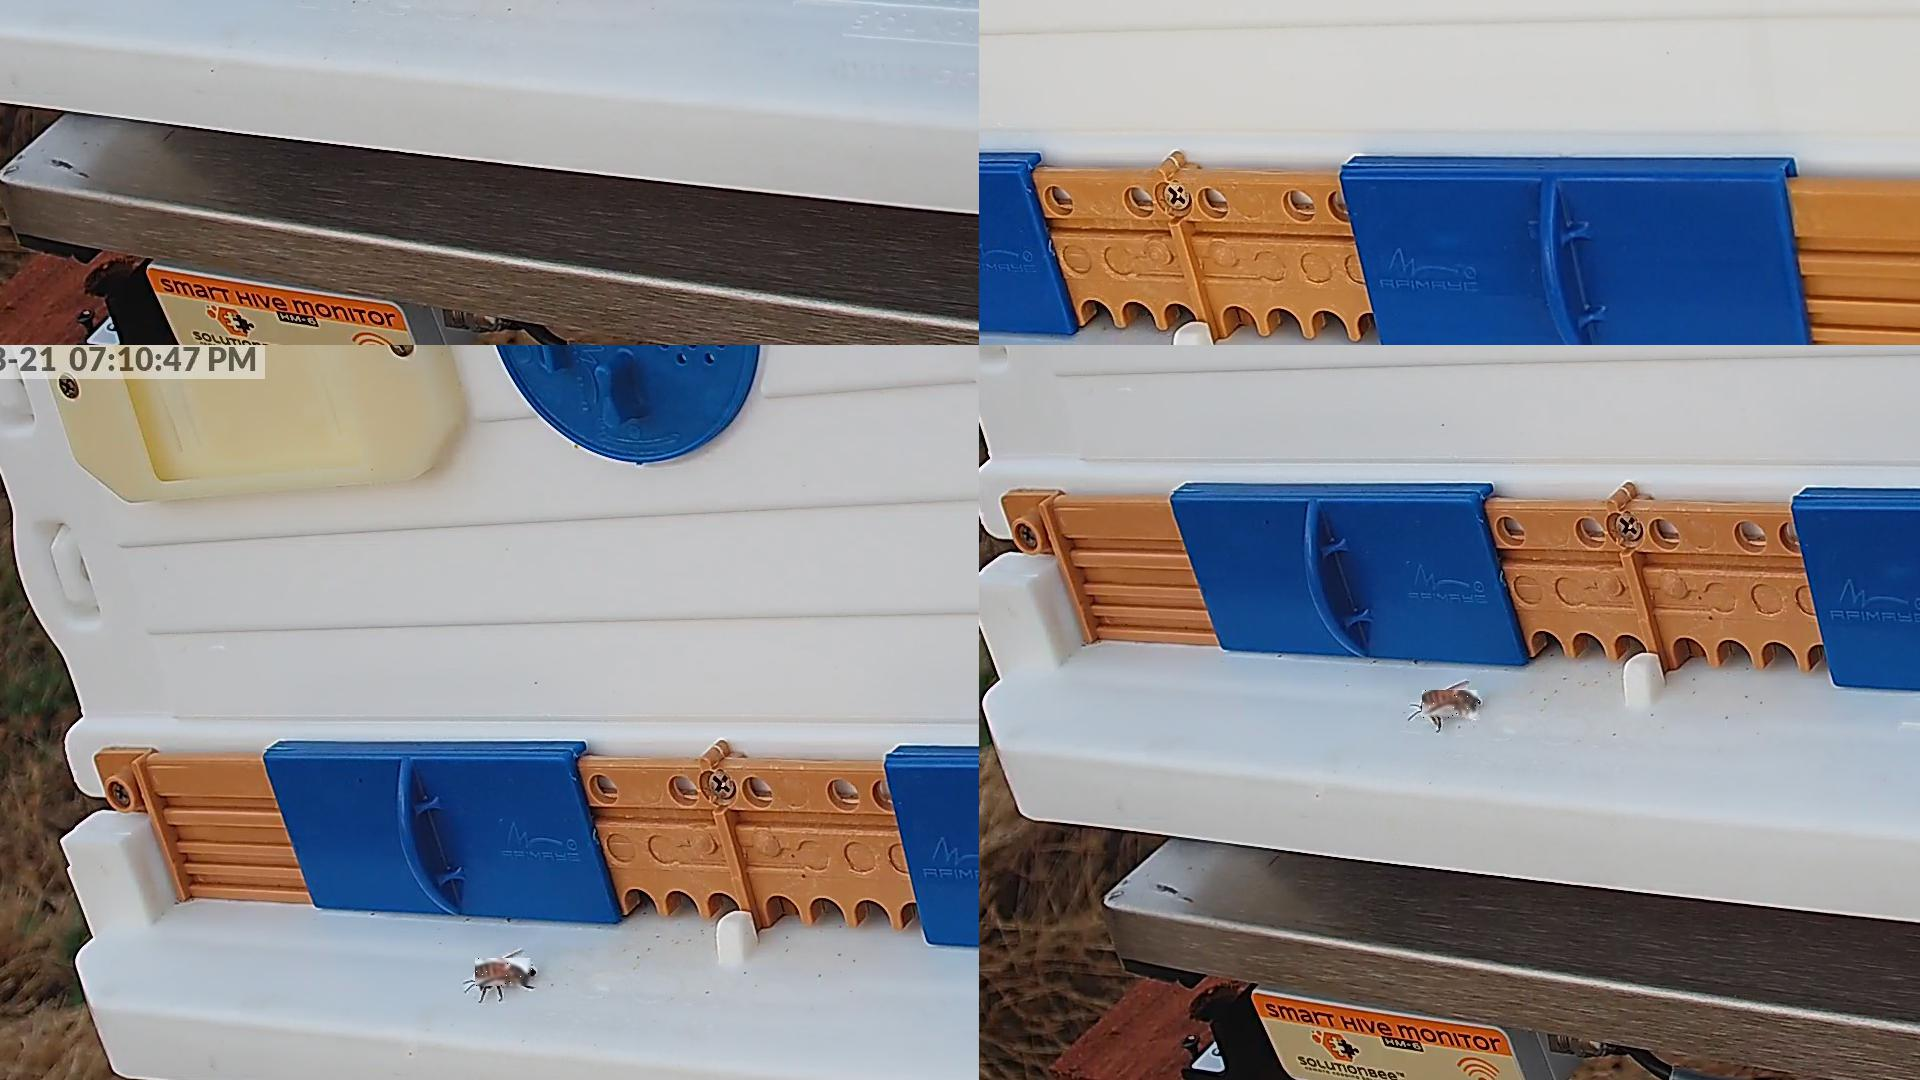bee: (476, 959, 534, 988), (1423, 691, 1481, 720)
